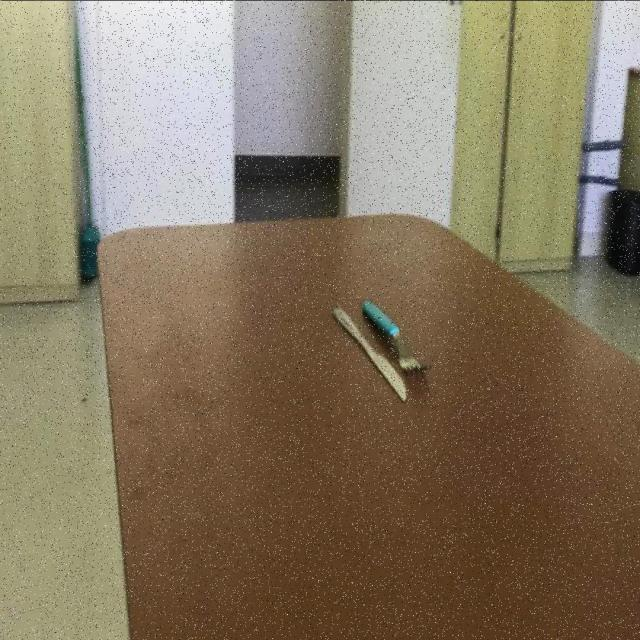Fork: (361, 300, 432, 376)
Knife: (330, 308, 408, 404)
